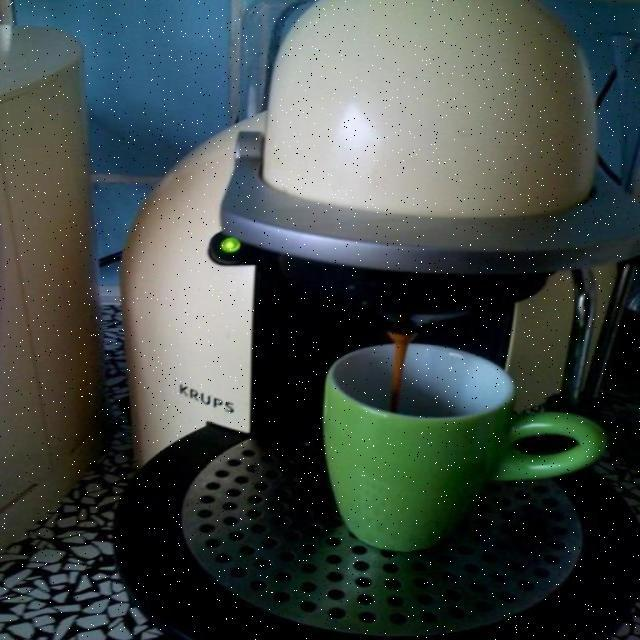Coffee-Machine: (116, 0, 630, 640)
